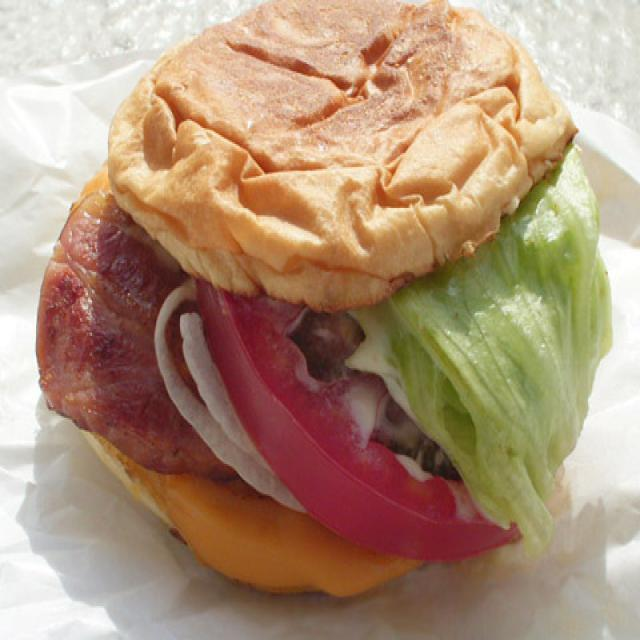Hamburger: (31, 0, 616, 610)
